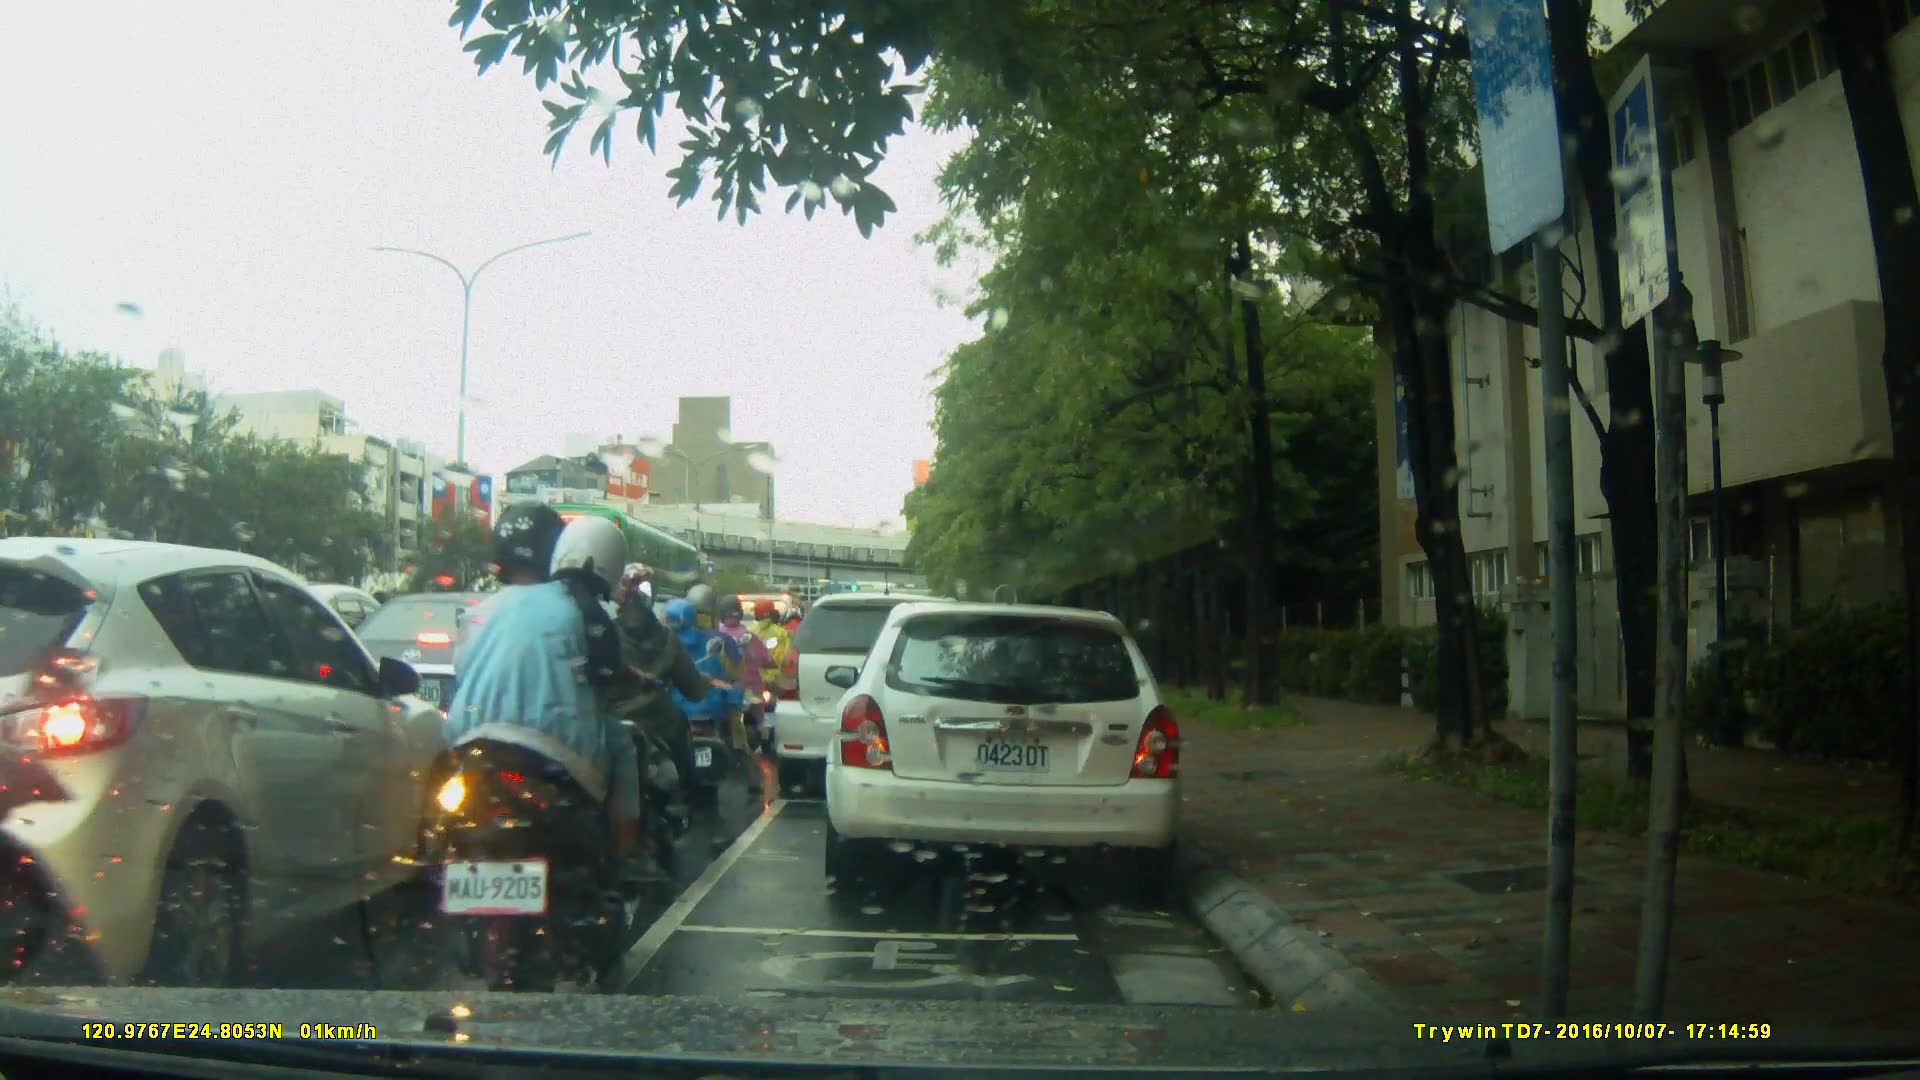rider: (444, 502, 661, 995), (597, 565, 727, 860), (656, 587, 741, 800), (698, 598, 771, 764), (740, 598, 798, 747)
vehicle: (4, 535, 464, 988), (831, 592, 1196, 897), (312, 589, 629, 776), (771, 590, 999, 803), (499, 502, 709, 636)
